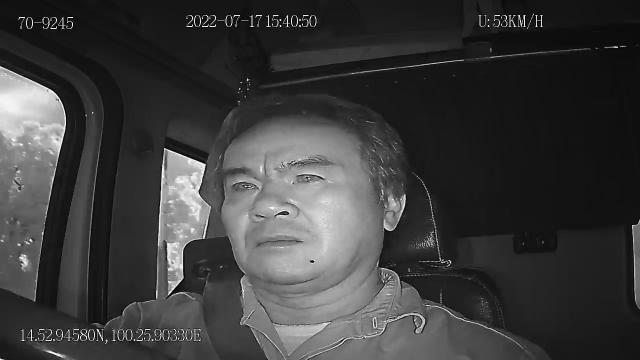SafeDriving: (286, 164, 334, 190), (223, 170, 265, 198)
Seatbelt: (200, 266, 270, 360)
